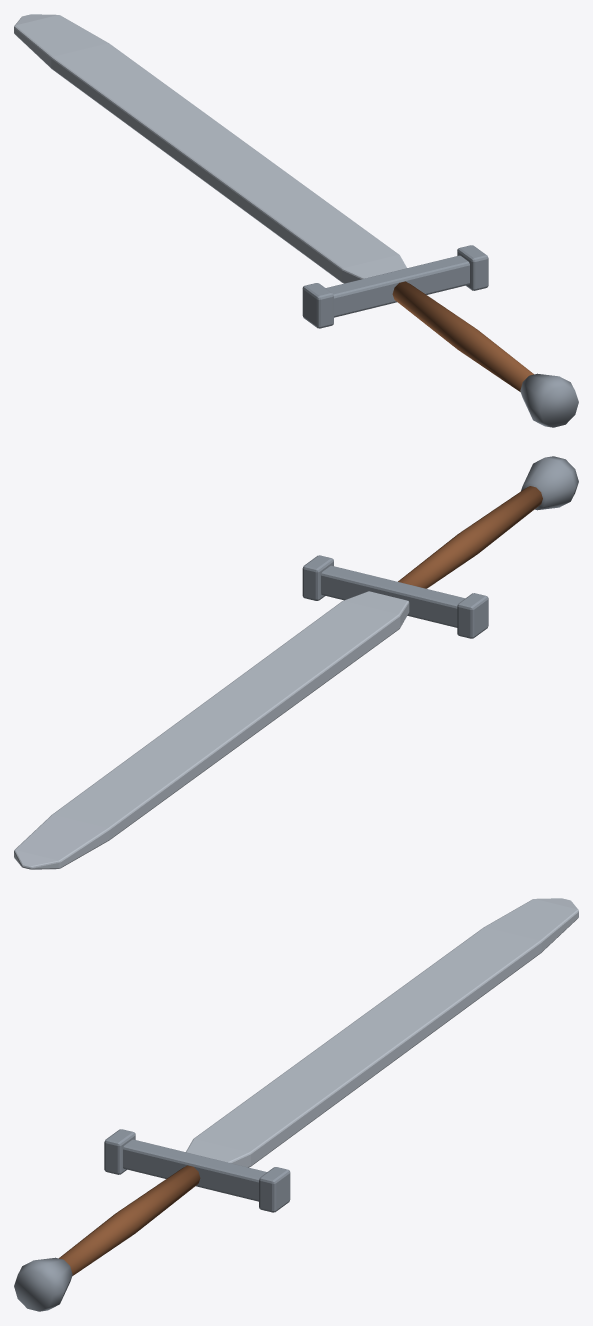
File: greatsword_09_cleaver_steel.glb
3 renders of one model, top to bottom at view 1: azimuth 30°, elevation 25°; view 2: azimuth 150°, elevation 25°; view 3: azimuth 330°, elevation 25°, orthographic.
Visible parts, largest first — view 1: 09_cleaver_steel_Blade, 09_cleaver_steel_Guard, 09_cleaver_steel_Grip, 09_cleaver_steel_Pommel; view 2: 09_cleaver_steel_Blade, 09_cleaver_steel_Guard, 09_cleaver_steel_Grip, 09_cleaver_steel_Pommel; view 3: 09_cleaver_steel_Blade, 09_cleaver_steel_Guard, 09_cleaver_steel_Grip, 09_cleaver_steel_Pommel.
Part boxes in pixels (x1,y1,x2,y2): 09_cleaver_steel_Blade: (14, 14, 406, 283); 09_cleaver_steel_Guard: (302, 245, 488, 328); 09_cleaver_steel_Grip: (392, 281, 533, 391); 09_cleaver_steel_Pommel: (520, 373, 578, 427); 09_cleaver_steel_Blade: (14, 591, 409, 869); 09_cleaver_steel_Guard: (302, 555, 488, 638); 09_cleaver_steel_Grip: (398, 486, 542, 588); 09_cleaver_steel_Pommel: (521, 456, 578, 510); 09_cleaver_steel_Blade: (186, 898, 578, 1167); 09_cleaver_steel_Guard: (104, 1129, 290, 1212); 09_cleaver_steel_Grip: (59, 1165, 200, 1275); 09_cleaver_steel_Pommel: (14, 1257, 72, 1311).
Bounding box in the file's own units: 0.264 × 0.0685 × 1.42.
